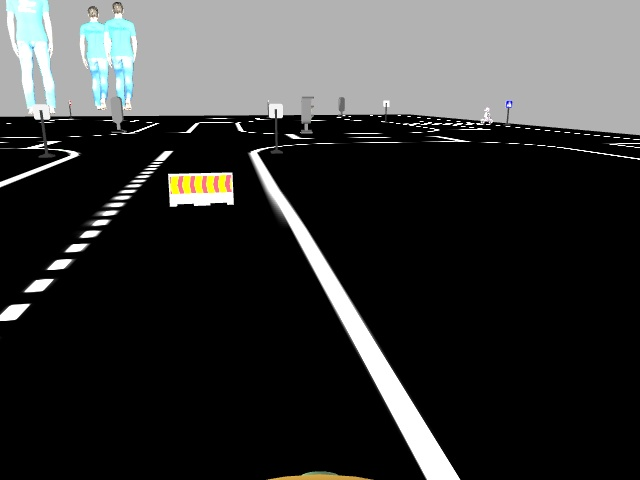ClosedRoadStand: (166, 174, 233, 203)
